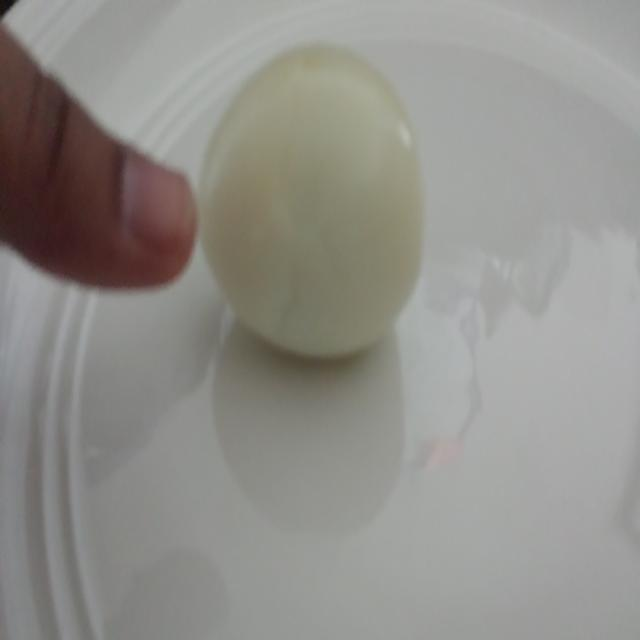egg: (194, 34, 480, 376)
